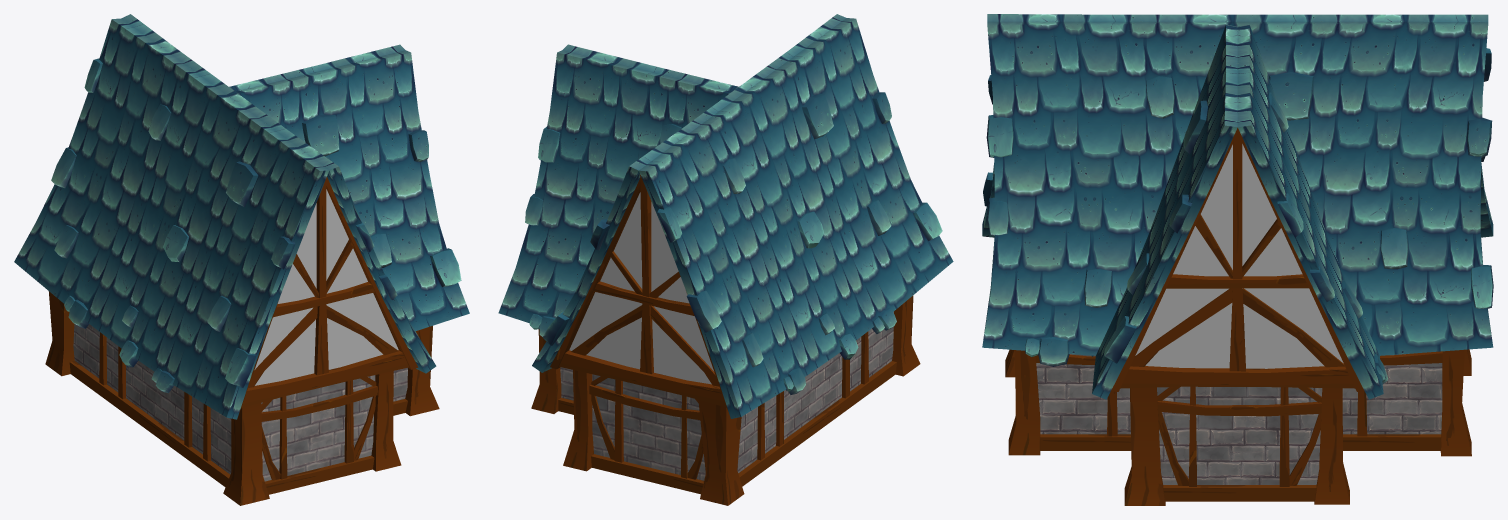
File: SM_BLD_body_v05_01.fbx
3 views of the same model, side by side, from view 1: azimuth 30°, elevation 25°; view 2: azimuth 150°, elevation 25°; view 3: azimuth 270°, elevation 25° (orthographic). The views are drawn at different scales.
Parts seen in each view (by area): view 1: SM_BLD_body_v05_01; view 2: SM_BLD_body_v05_01; view 3: SM_BLD_body_v05_01.
Boxes of the visible parts, x1,y1,x2,y2 form: SM_BLD_body_v05_01: (14, 14, 469, 505); SM_BLD_body_v05_01: (498, 14, 953, 505); SM_BLD_body_v05_01: (982, 14, 1493, 505).
Size of the model in its own units: 1024 by 1078 by 1288.
